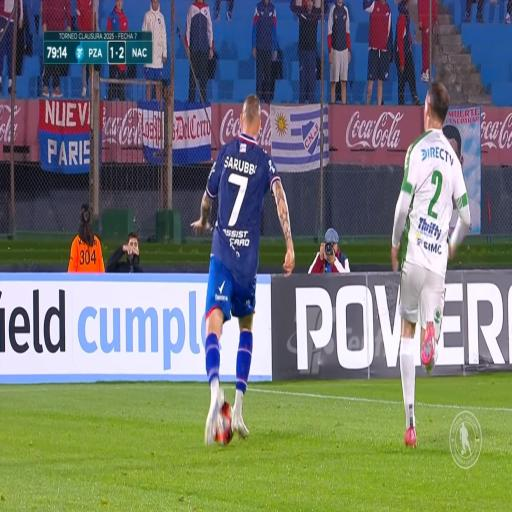Ball: (211, 396, 236, 448)
Player: (199, 92, 272, 449), (397, 79, 453, 449)
